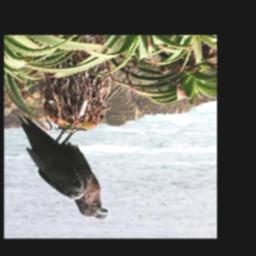Crow: (14, 114, 113, 221)
